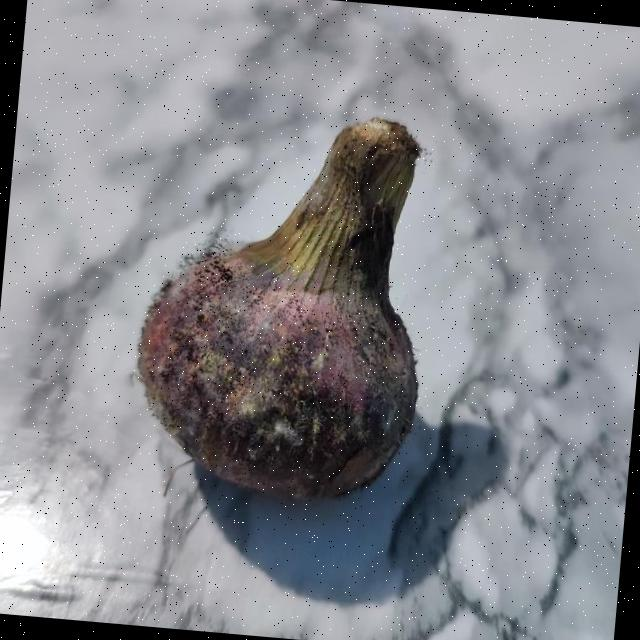Onion: (137, 118, 420, 497)
